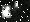person: (3, 6, 12, 19), (12, 3, 18, 12)
